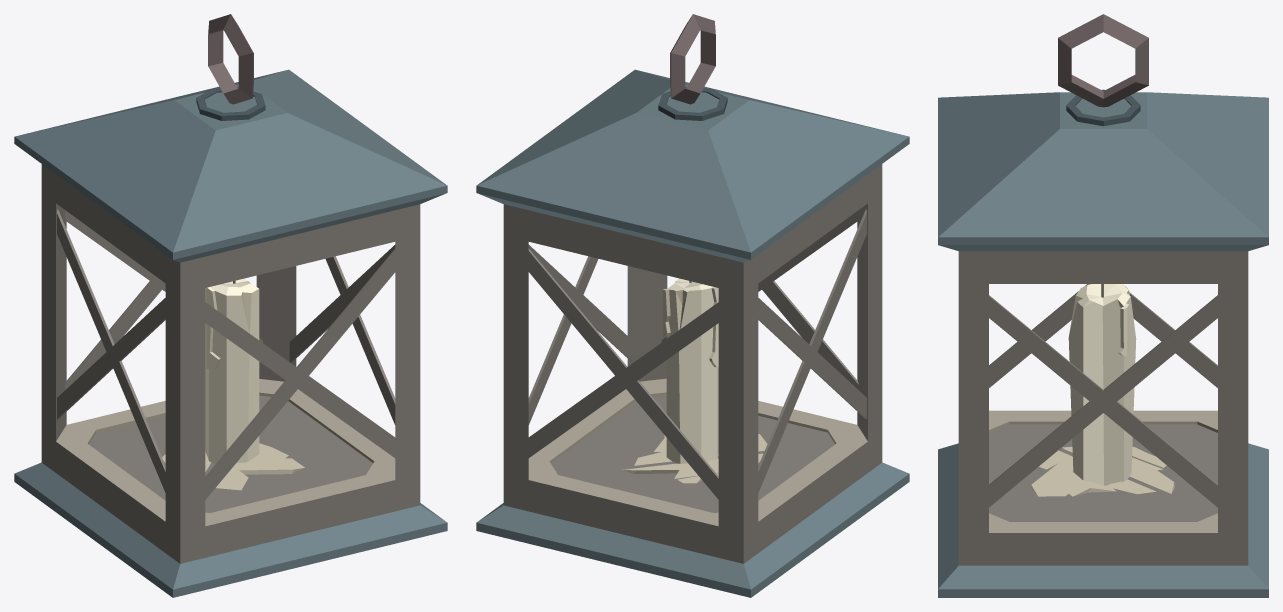
Rendered from Lantern_01.glb.
3 renders of one model, left to right at view 1: azimuth 30°, elevation 25°; view 2: azimuth 150°, elevation 25°; view 3: azimuth 270°, elevation 25°, orthographic. The views are drawn at different scales.
Parts seen in each view (by area): view 1: Lantern_01; view 2: Lantern_01; view 3: Lantern_01.
Boxes of the visible parts, x1,y1,x2,y2 form: Lantern_01: [14, 14, 447, 597]; Lantern_01: [476, 14, 909, 597]; Lantern_01: [938, 14, 1268, 597].
Size of what is drawn, in the model's own units: 0.3366 by 0.5769 by 0.3366.
Materials: 1 (1 with a texture image).
